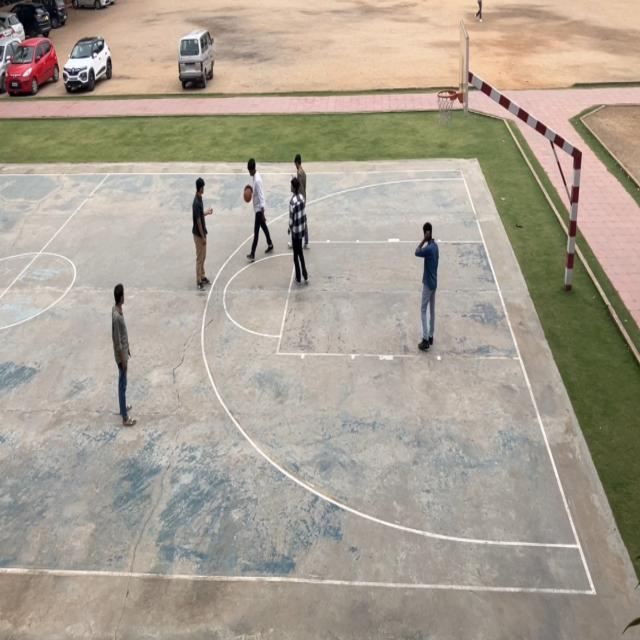basketball: (242, 185, 255, 209)
hoop: (436, 88, 457, 126)
